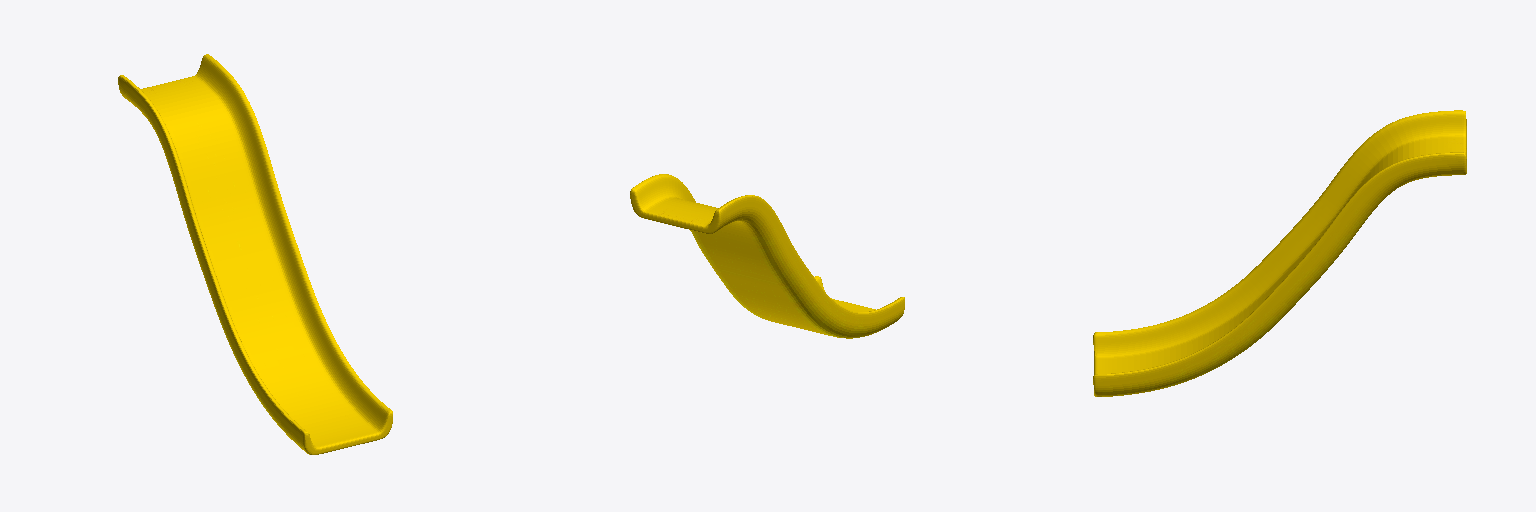
The picture shows the model from 3 angles: view 1: azimuth 30°, elevation 25°; view 2: azimuth 150°, elevation 25°; view 3: azimuth 270°, elevation 25°; orthographic projection.
Visible parts, largest first — view 1: Slide; view 2: Slide; view 3: Slide.
Boxes of the visible parts, box(x1,y1,x2,y2) form: Slide: box(118, 54, 392, 454); Slide: box(630, 174, 904, 338); Slide: box(1093, 110, 1466, 396).
Bounding box in the file's own units: 64.34 × 169 × 230.
1 materials, 1 textured.